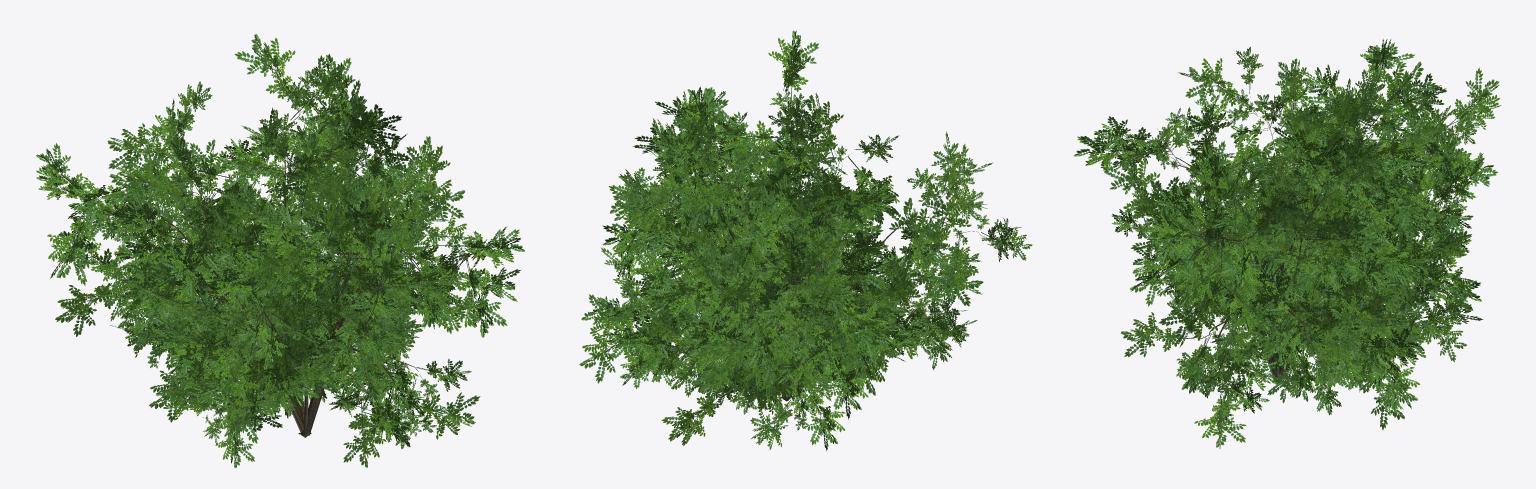
File: bush-1.glb
3 views of the same model, side by side, from view 1: azimuth 30°, elevation 25°; view 2: azimuth 150°, elevation 25°; view 3: azimuth 270°, elevation 25° (orthographic). The views are drawn at different scales.
Visible parts, largest first — view 1: Tree; view 2: Tree; view 3: Tree.
Part boxes in pixels (x1,y1,x2,y2): Tree: (36,34,525,467); Tree: (579,30,1032,451); Tree: (1074,39,1501,448).
Size of the model in its own units: 34.78 by 32.63 by 33.99.
Materials: 2 (2 with a texture image).
